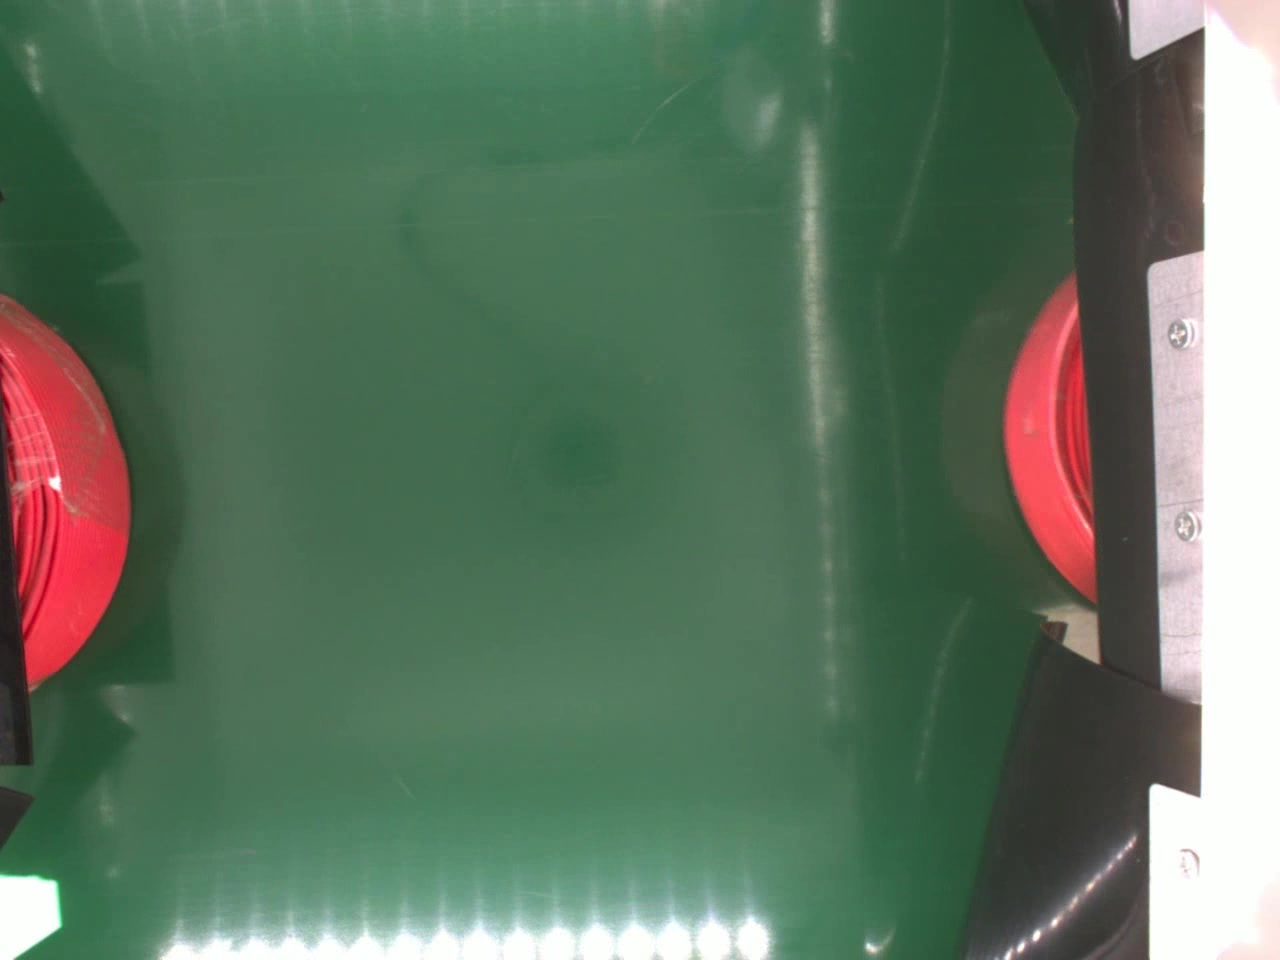red: (0, 283, 118, 691)
